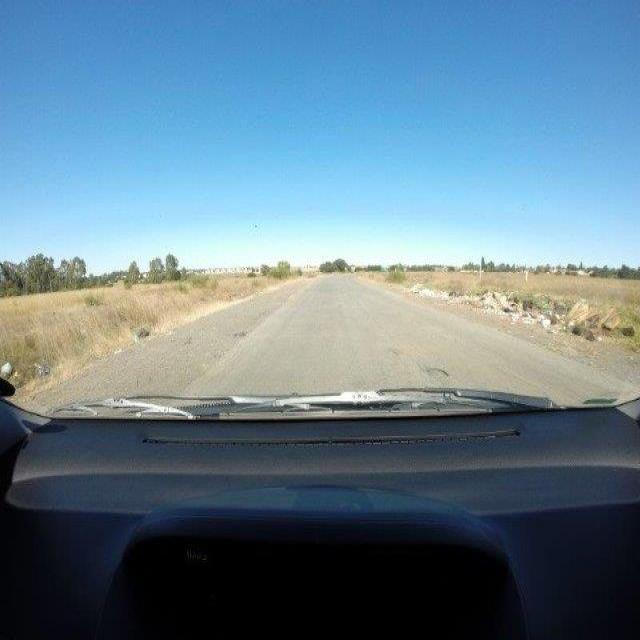lubang: (422, 362, 452, 386)
